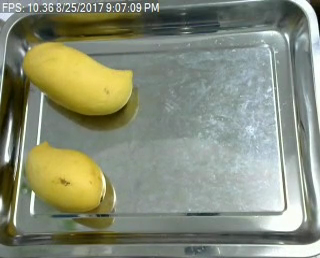Mango: (22, 40, 134, 116), (26, 141, 106, 215)
